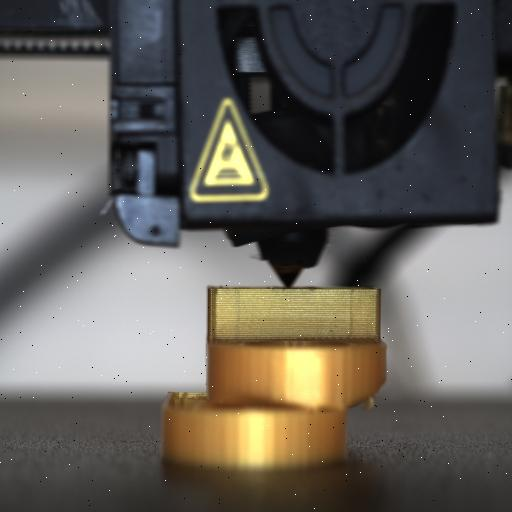layer_shift: (158, 378, 392, 414)
